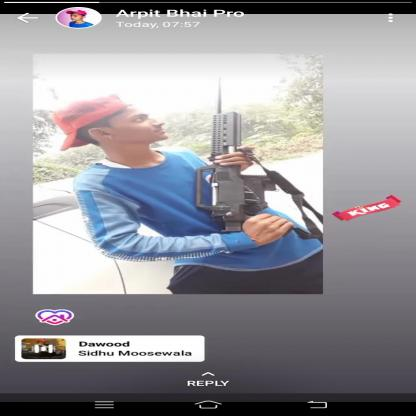rifle: (191, 74, 284, 233)
